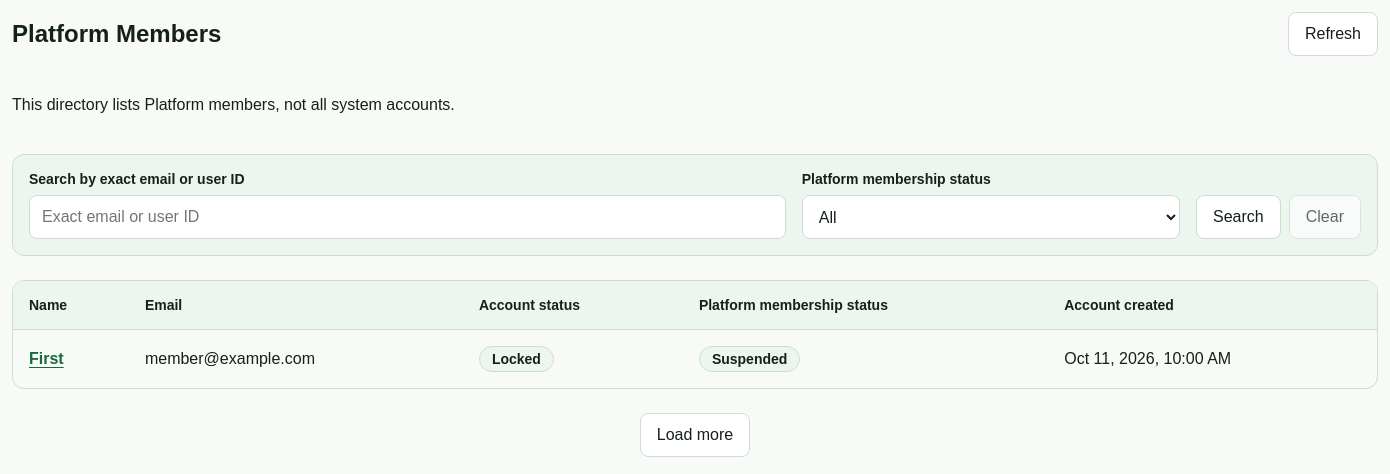
Test case: Platform member directory › cursor rejection retires pagination and safely restarts
Expected: the link "First" is shown, [29,350,64,367]
Click the button "Load more" at (695, 435), box [640,413,750,457]
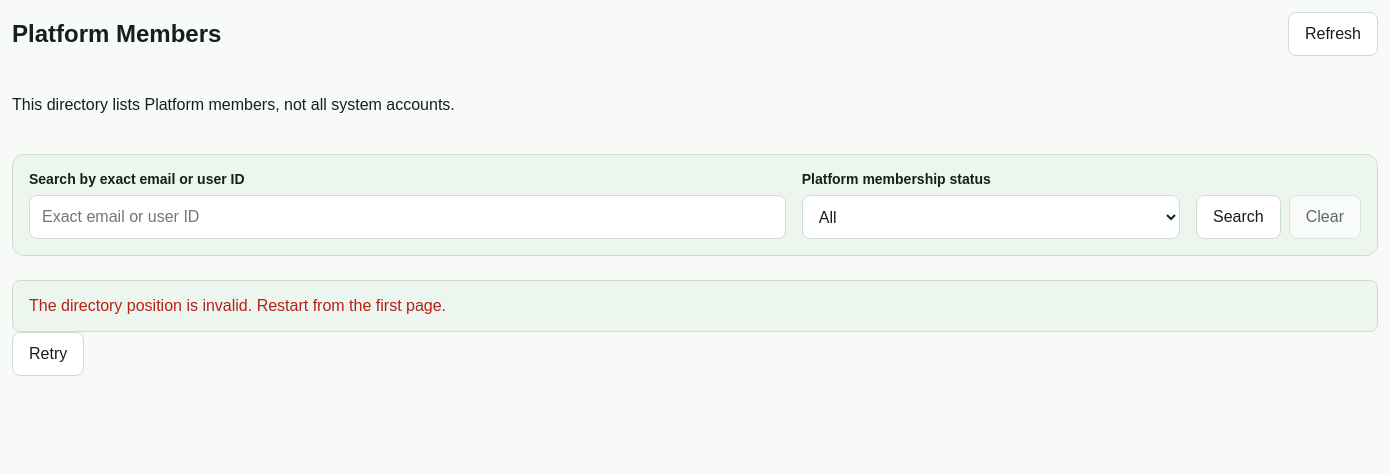
Result: the text "The directory position is invalid. Restart from the first page." is shown at [12,280,1378,332]
Click the button "Retry" at (48, 354), box [12,332,84,376]
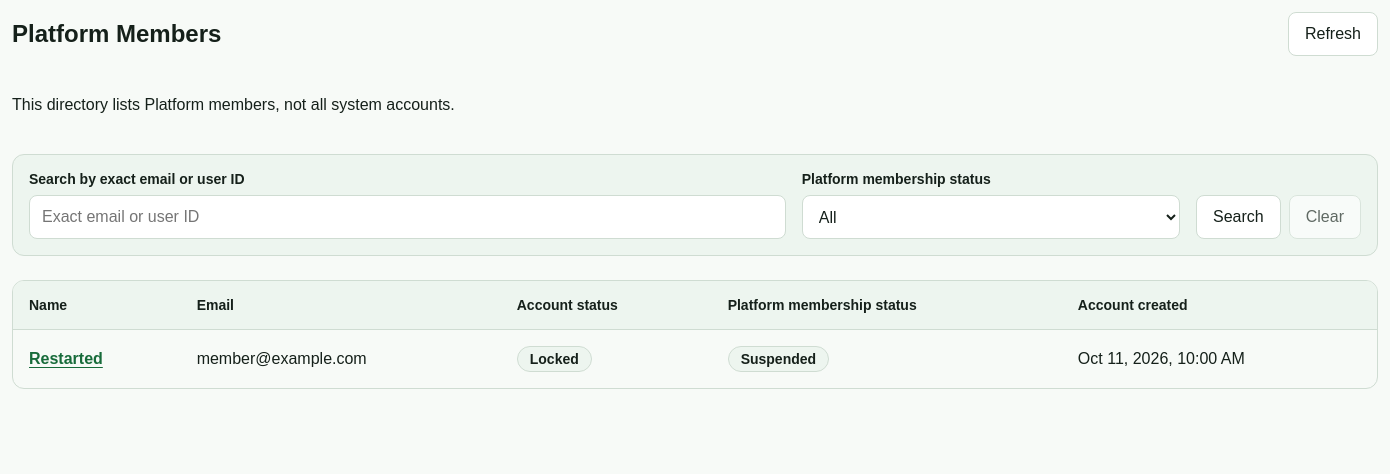
Result: the link "Restarted" is shown at [29,350,103,367]
